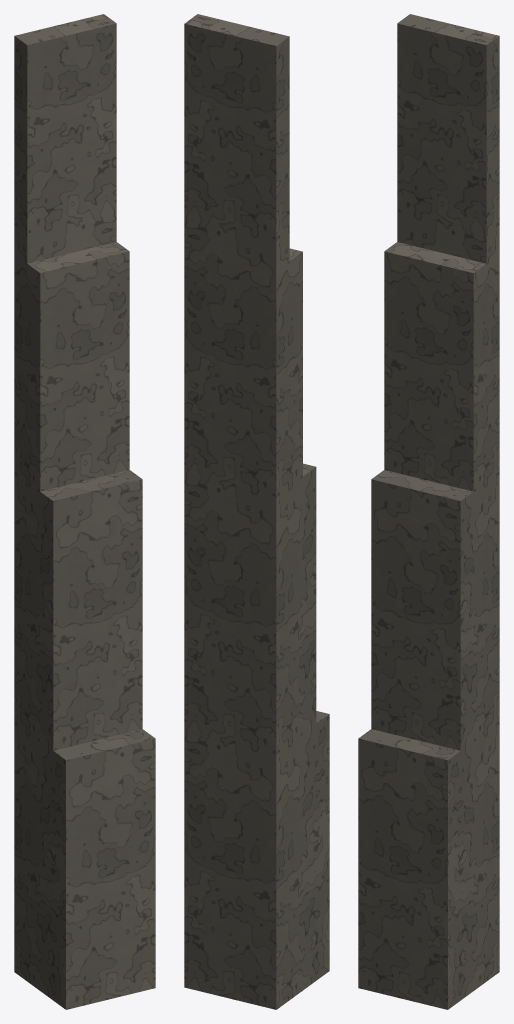
The model's file is buttress_tall.glb.
The picture shows the model from 3 angles, left to right: view 1: azimuth 30°, elevation 25°; view 2: azimuth 150°, elevation 25°; view 3: azimuth 330°, elevation 25°; orthographic projection. The views are drawn at different scales.
Parts seen in each view (by area): view 1: buttress_tall; view 2: buttress_tall; view 3: buttress_tall.
Part boxes in pixels (bbox=[...]): buttress_tall: bbox=[14, 14, 155, 1009]; buttress_tall: bbox=[184, 14, 329, 1009]; buttress_tall: bbox=[358, 14, 499, 1009].
Bounding box in the file's own units: 0.6 × 6 × 0.6.
1 material, 1 textured.
